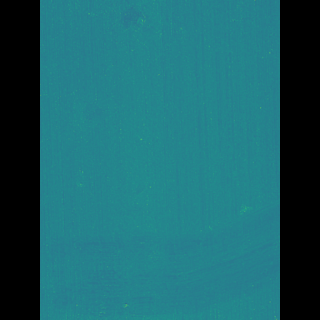Loch: (68, 193, 251, 320), (121, 0, 157, 38)
